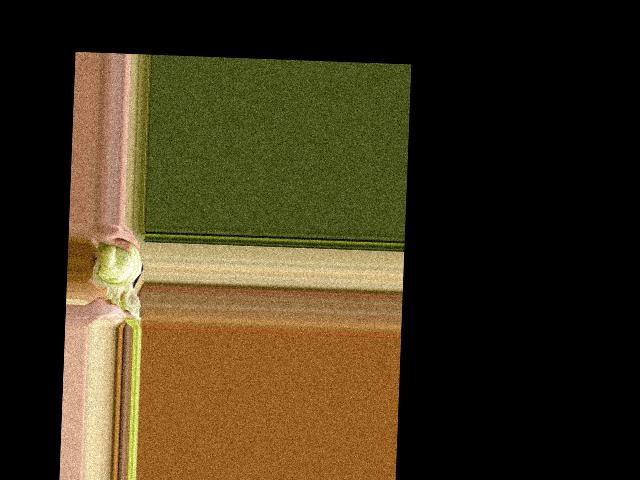lettuce: (88, 237, 144, 299)
